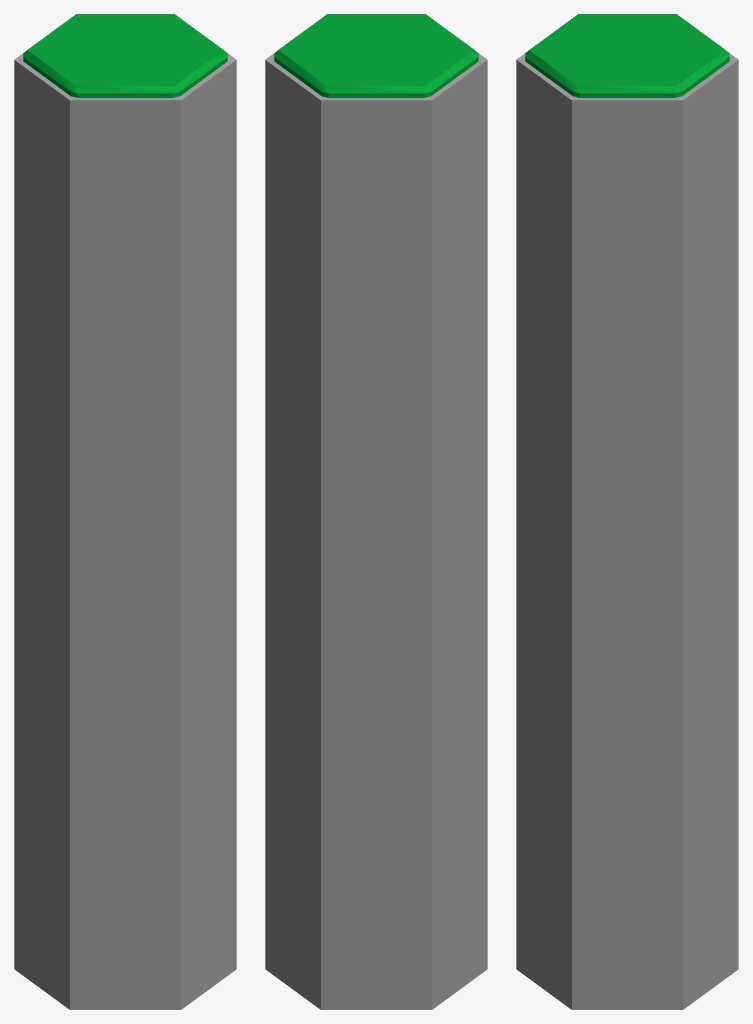
File: BevelHex.fbx
The picture shows the model from 3 angles, left to right: view 1: azimuth 30°, elevation 25°; view 2: azimuth 150°, elevation 25°; view 3: azimuth 270°, elevation 25°; orthographic projection.
Visible parts, largest first — view 1: polySurface2; view 2: polySurface2; view 3: polySurface2.
Boxes of the visible parts, x1=… form: polySurface2: x1=14, y1=14, x2=236, y2=1009; polySurface2: x1=265, y1=14, x2=487, y2=1009; polySurface2: x1=516, y1=14, x2=738, y2=1009.
Bounding box in the file's own units: 10.1 × 53.17 × 11.66.
